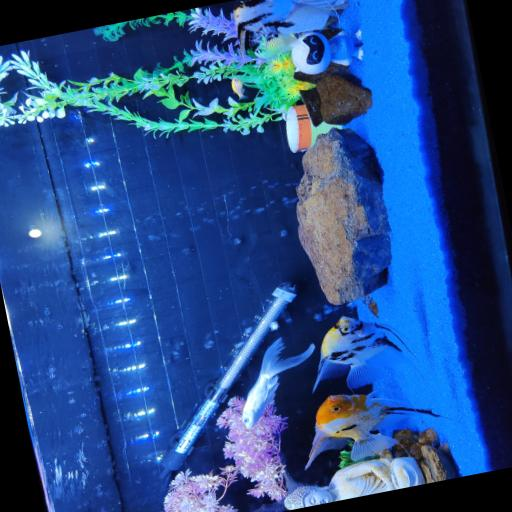Fish: (306, 391, 441, 468), (314, 317, 407, 390), (242, 338, 314, 429), (233, 0, 334, 56), (232, 76, 248, 100)
